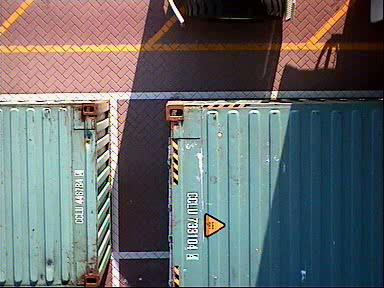groundmarker_2: (70, 90, 148, 133), (109, 219, 142, 287)
